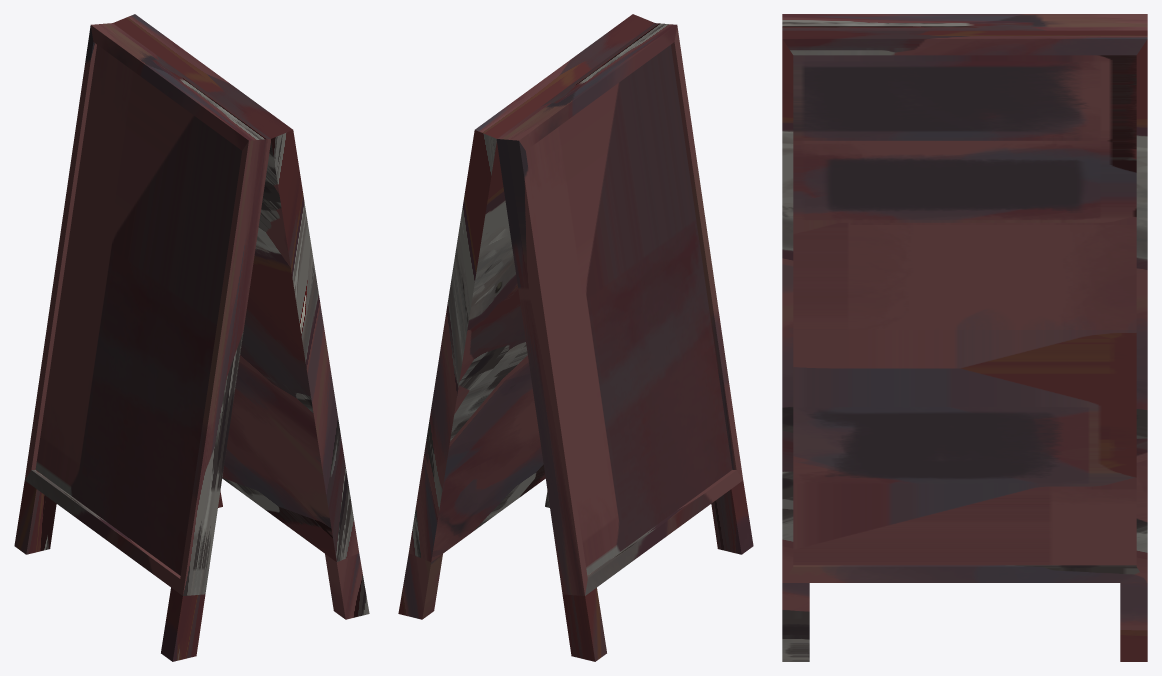
File: pillar.fbx
3 renders of one model, left to right at view 1: azimuth 30°, elevation 25°; view 2: azimuth 150°, elevation 25°; view 3: azimuth 270°, elevation 25°, orthographic. The views are drawn at different scales.
Parts seen in each view (by area): view 1: pillar; view 2: pillar; view 3: pillar.
Part boxes in pixels (bbox=[...]): pillar: bbox=[14, 14, 369, 661]; pillar: bbox=[398, 14, 753, 661]; pillar: bbox=[782, 14, 1147, 661].
Size of the model in its own units: 322 by 785 by 448.
